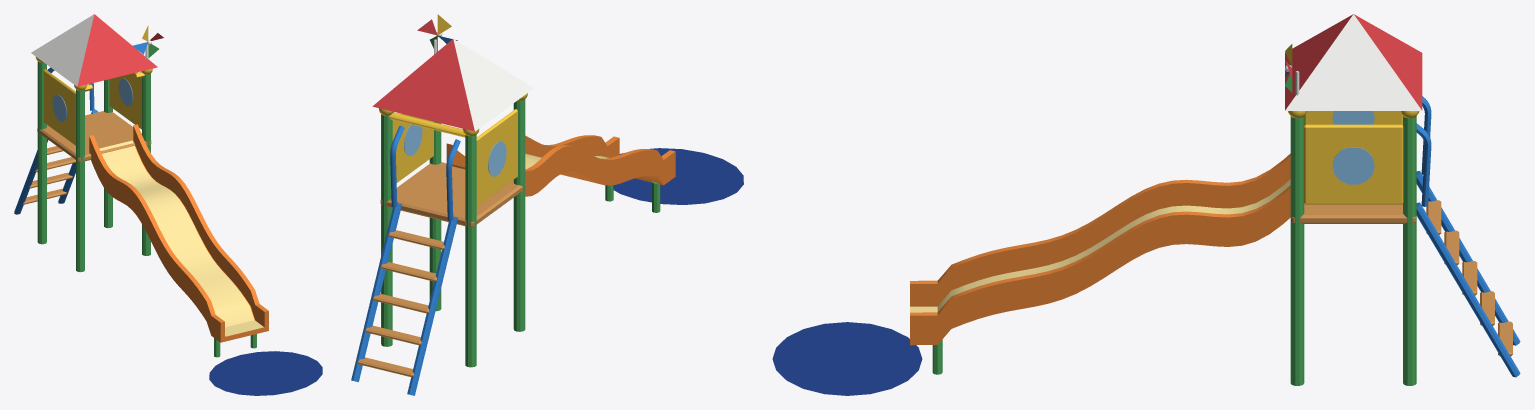
File: escorregador_praca.glb
3 renders of one model, left to right at view 1: azimuth 30°, elevation 25°; view 2: azimuth 150°, elevation 25°; view 3: azimuth 270°, elevation 25°, orthographic. The views are drawn at different scales.
Parts seen in each view (by area): view 1: escorregador_praca, cata_vento; view 2: escorregador_praca, cata_vento; view 3: escorregador_praca.
Part boxes in pixels (box(x1,y1,x2,y2)): escorregador_praca: box(14, 14, 322, 395); cata_vento: box(132, 25, 163, 58); escorregador_praca: box(351, 39, 743, 395); cata_vento: box(417, 14, 457, 51); escorregador_praca: box(772, 14, 1520, 395).
Size of the model in its own units: 1.4 by 3.05 by 5.99.
Materials: 1 (1 with a texture image).
